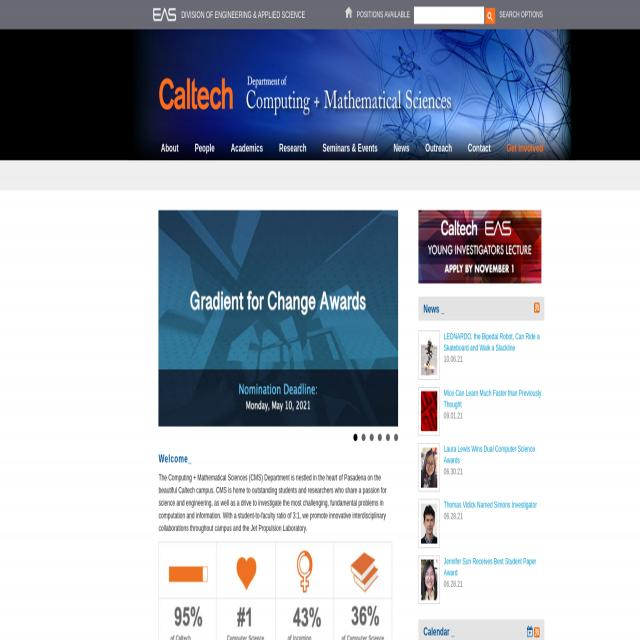button: (158, 211, 398, 425), (419, 210, 541, 283), (216, 541, 275, 640), (275, 542, 334, 640), (333, 542, 392, 640), (159, 542, 217, 640), (148, 0, 310, 27), (159, 78, 240, 122), (314, 134, 386, 160), (499, 134, 551, 160), (223, 134, 271, 160), (271, 134, 315, 160), (418, 134, 460, 160), (418, 387, 439, 436), (418, 443, 439, 492), (418, 331, 439, 379), (418, 500, 439, 548), (418, 556, 439, 604), (460, 134, 498, 160), (187, 134, 223, 160), (153, 134, 187, 160), (386, 134, 417, 160), (485, 8, 495, 24), (345, 7, 353, 18), (352, 432, 358, 443), (534, 303, 540, 313), (369, 432, 374, 443), (377, 432, 382, 443), (393, 433, 399, 442), (384, 433, 390, 442), (361, 432, 366, 442), (534, 629, 540, 636)
field: (414, 6, 484, 24)
